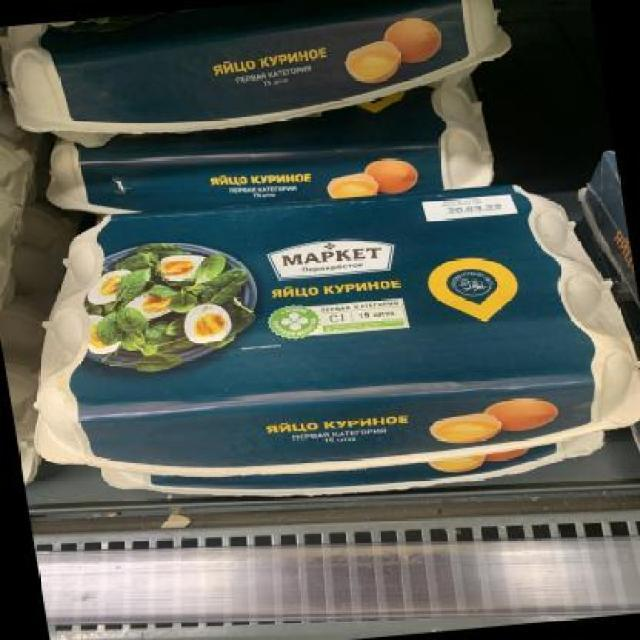Egg: (1, 164, 640, 488), (8, 0, 520, 149), (40, 92, 502, 226)
